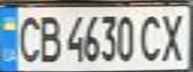0: (115, 11, 139, 63)
3: (96, 11, 121, 63)
4: (63, 11, 84, 63)
6: (81, 11, 103, 63)
B: (33, 11, 63, 64)
C: (9, 11, 45, 64), (136, 11, 166, 63)
X: (157, 9, 190, 63)
